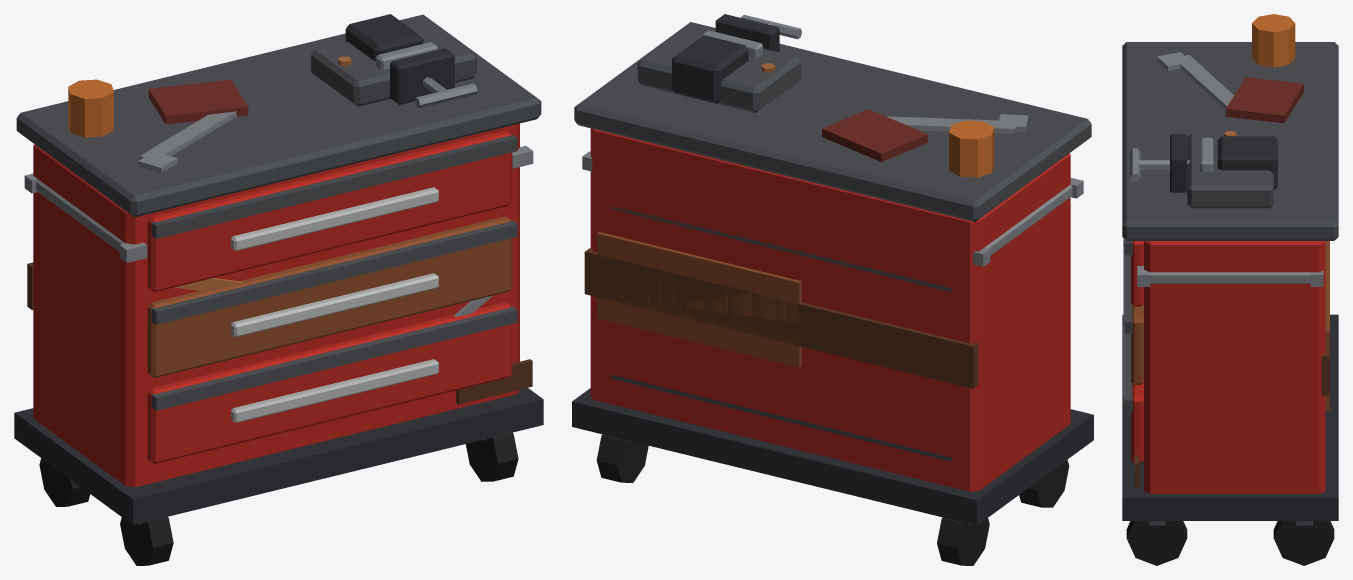
The model's file is furn_toolbox.fbx.
3 renders of one model, left to right at view 1: azimuth 30°, elevation 25°; view 2: azimuth 150°, elevation 25°; view 3: azimuth 270°, elevation 25°, orthographic. The views are drawn at different scales.
Parts seen in each view (by area): view 1: furn_toolbox, Drawer_1, Drawer_3, Drawer_2; view 2: furn_toolbox, Drawer_3, Drawer_1; view 3: furn_toolbox, Drawer_2, Drawer_3, Drawer_1.
Part boxes in pixels (<box>): furn_toolbox: <box>14,14,543,565</box>; Drawer_1: <box>147,130,517,292</box>; Drawer_3: <box>147,302,517,463</box>; Drawer_2: <box>147,216,517,377</box>; furn_toolbox: <box>572,14,1093,565</box>; Drawer_3: <box>611,374,951,461</box>; Drawer_1: <box>611,206,951,292</box>; furn_toolbox: <box>1122,14,1338,565</box>; Drawer_2: <box>1123,247,1143,384</box>; Drawer_3: <box>1123,326,1143,463</box>; Drawer_1: <box>1123,238,1143,306</box>.
Size of the model in its own units: 1 by 0.995 by 0.5.
